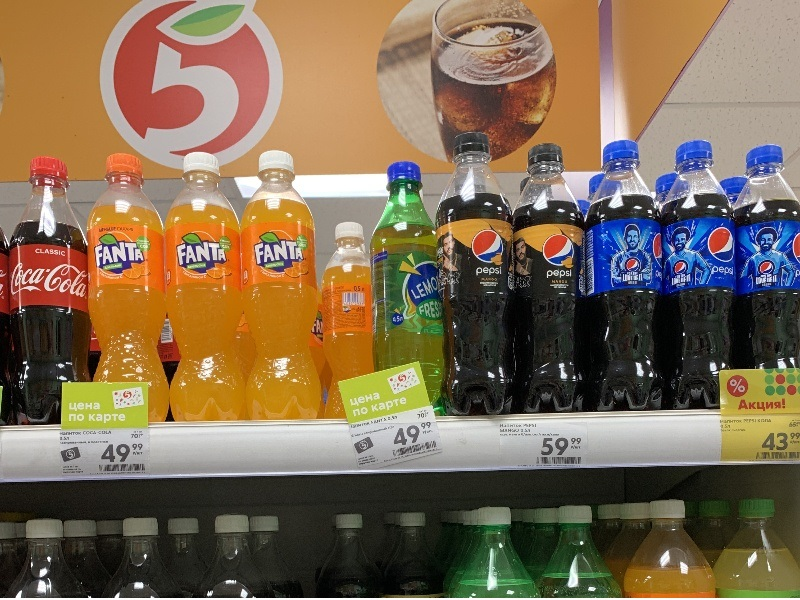lemonade: (227, 143, 334, 432), (152, 150, 259, 428), (73, 150, 177, 411), (577, 137, 671, 425), (437, 130, 526, 424), (503, 139, 595, 421), (655, 137, 740, 416), (3, 150, 84, 437), (360, 159, 453, 379)
